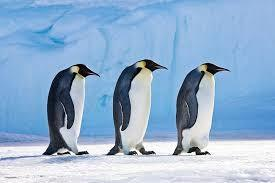emporer: (167, 56, 233, 158), (38, 62, 103, 162), (106, 58, 162, 157)
